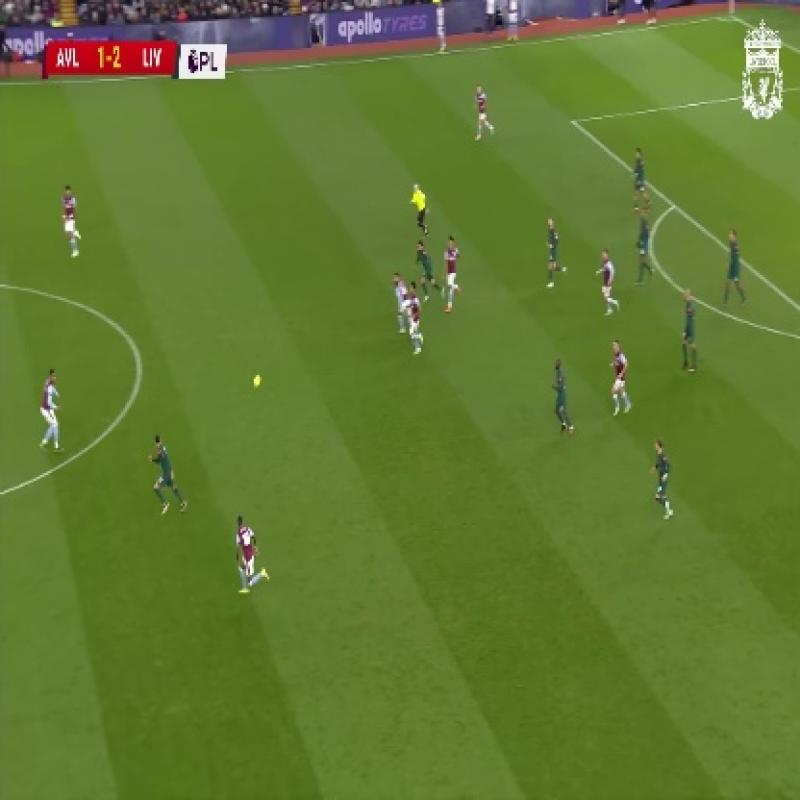1: (716, 4, 742, 25)
10: (661, 190, 682, 217)
9: (561, 108, 582, 132)
c: (116, 340, 166, 384)
